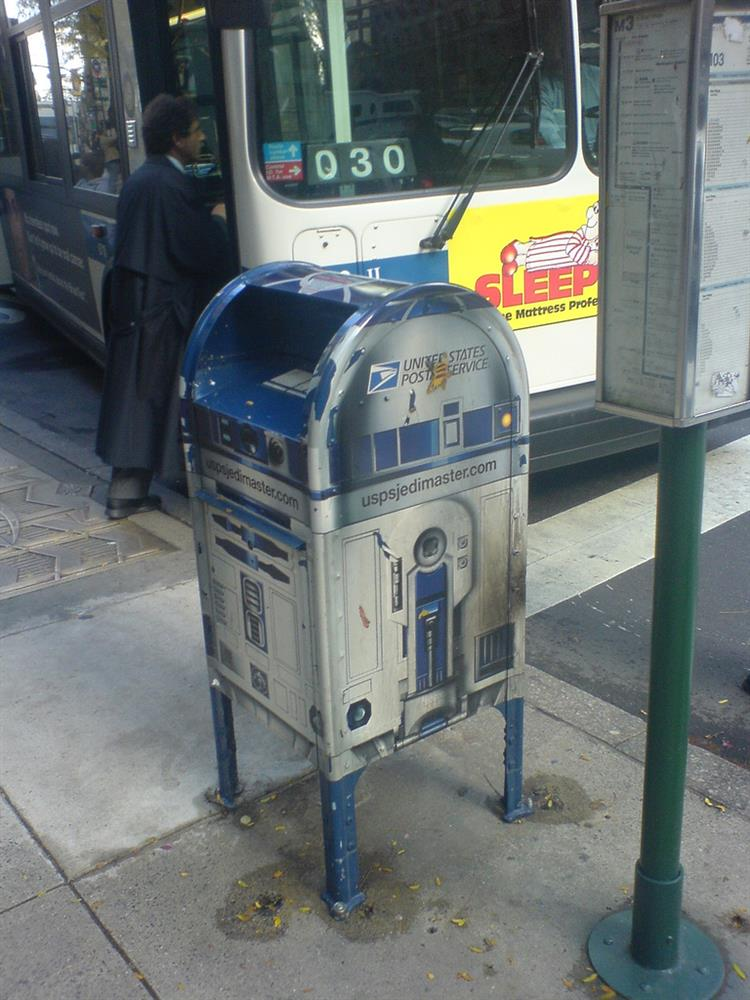R2D2_mailbox: (177, 263, 535, 769)
